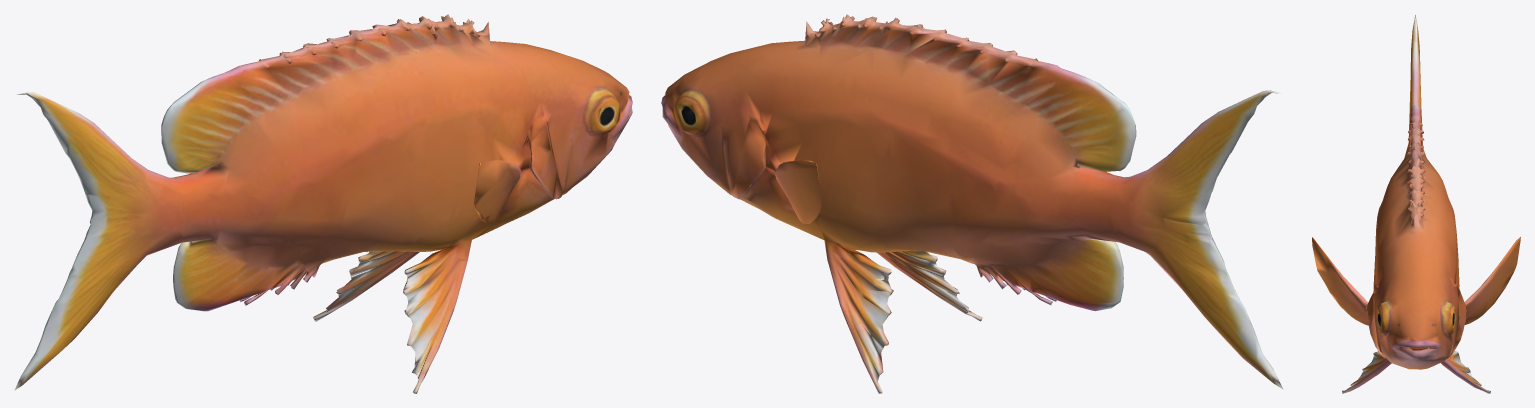
Rendered from anthias.glb.
The picture shows the model from 3 angles, left to right: view 1: azimuth 30°, elevation 25°; view 2: azimuth 150°, elevation 25°; view 3: azimuth 270°, elevation 25°; orthographic projection. The views are drawn at different scales.
Parts seen in each view (by area): view 1: tripo_node_274a2a5b-08ce-4105-b2d0-b614798a2ca7; view 2: tripo_node_274a2a5b-08ce-4105-b2d0-b614798a2ca7; view 3: tripo_node_274a2a5b-08ce-4105-b2d0-b614798a2ca7.
Part boxes in pixels (box(x1,y1,x2,y2)): tripo_node_274a2a5b-08ce-4105-b2d0-b614798a2ca7: box(14, 14, 632, 393); tripo_node_274a2a5b-08ce-4105-b2d0-b614798a2ca7: box(661, 14, 1283, 393); tripo_node_274a2a5b-08ce-4105-b2d0-b614798a2ca7: box(1312, 15, 1520, 393).
Size of the model in its own units: 1 by 0.5395 by 0.4004.
1 material, 1 textured.
